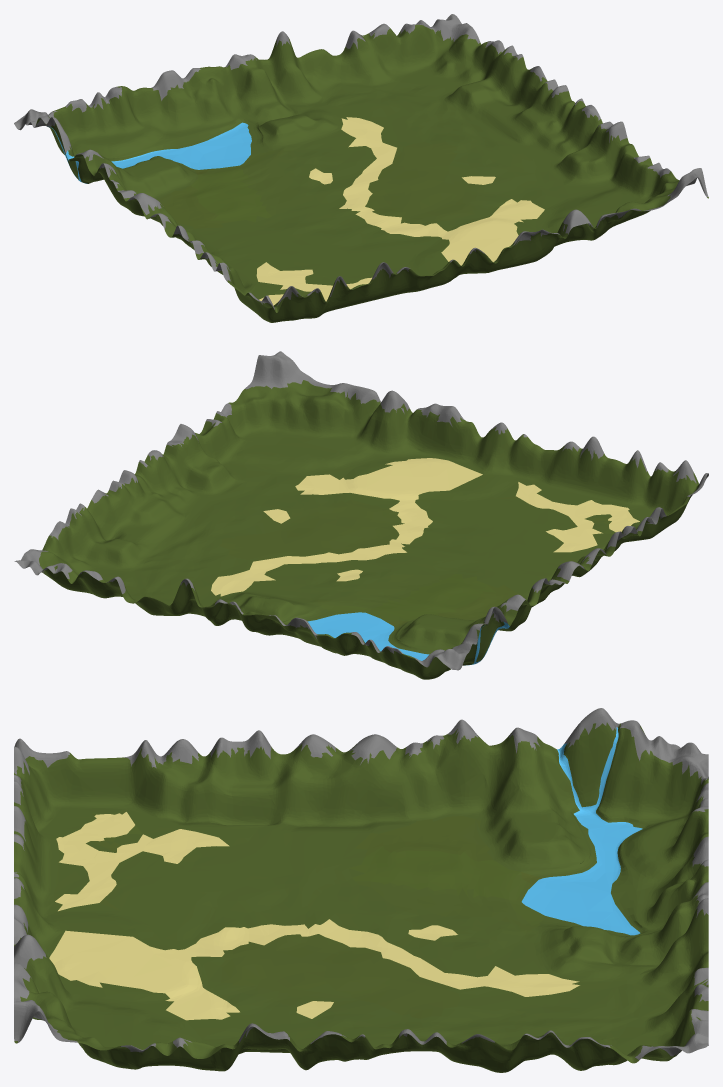
Rendered from Ground.fbx.
3 views of the same model, one above another, from view 1: azimuth 30°, elevation 25°; view 2: azimuth 150°, elevation 25°; view 3: azimuth 270°, elevation 25° (orthographic). The views are drawn at different scales.
Parts seen in each view (by area): view 1: HighPolyGround; view 2: HighPolyGround; view 3: HighPolyGround.
Boxes of the visible parts, left/top/right/bottom form: HighPolyGround: left=14, top=14, right=708, bottom=322; HighPolyGround: left=14, top=351, right=708, bottom=679; HighPolyGround: left=14, top=708, right=708, bottom=1072.
Size of the model in its own units: 400 by 59.52 by 400.
